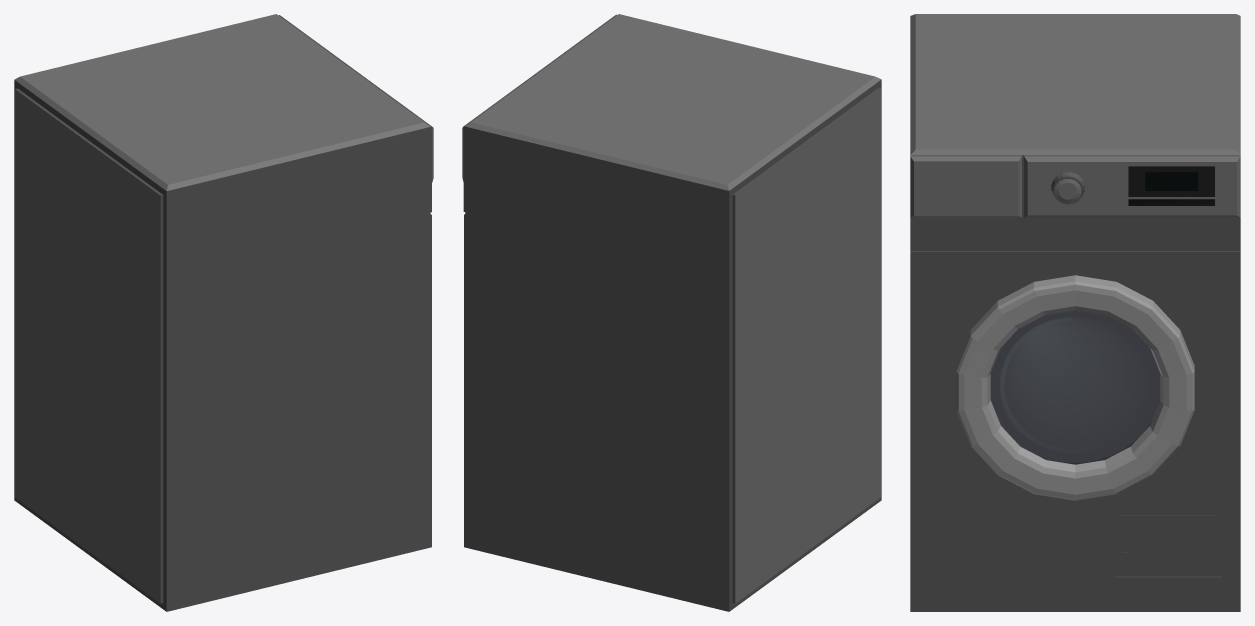
Rendered from mesin cuci.fbx.
The picture shows the model from 3 angles, left to right: view 1: azimuth 30°, elevation 25°; view 2: azimuth 150°, elevation 25°; view 3: azimuth 270°, elevation 25°; orthographic projection. The views are drawn at different scales.
Parts seen in each view (by area): view 1: washing machine; view 2: washing machine; view 3: washing machine.
Part boxes in pixels (x1,y1,x2,y2): washing machine: (14, 14, 433, 611); washing machine: (462, 14, 881, 611); washing machine: (910, 14, 1240, 611).
Size of the model in its own units: 94.95 by 136 by 88.77.
Materials: 1 (1 with a texture image).
